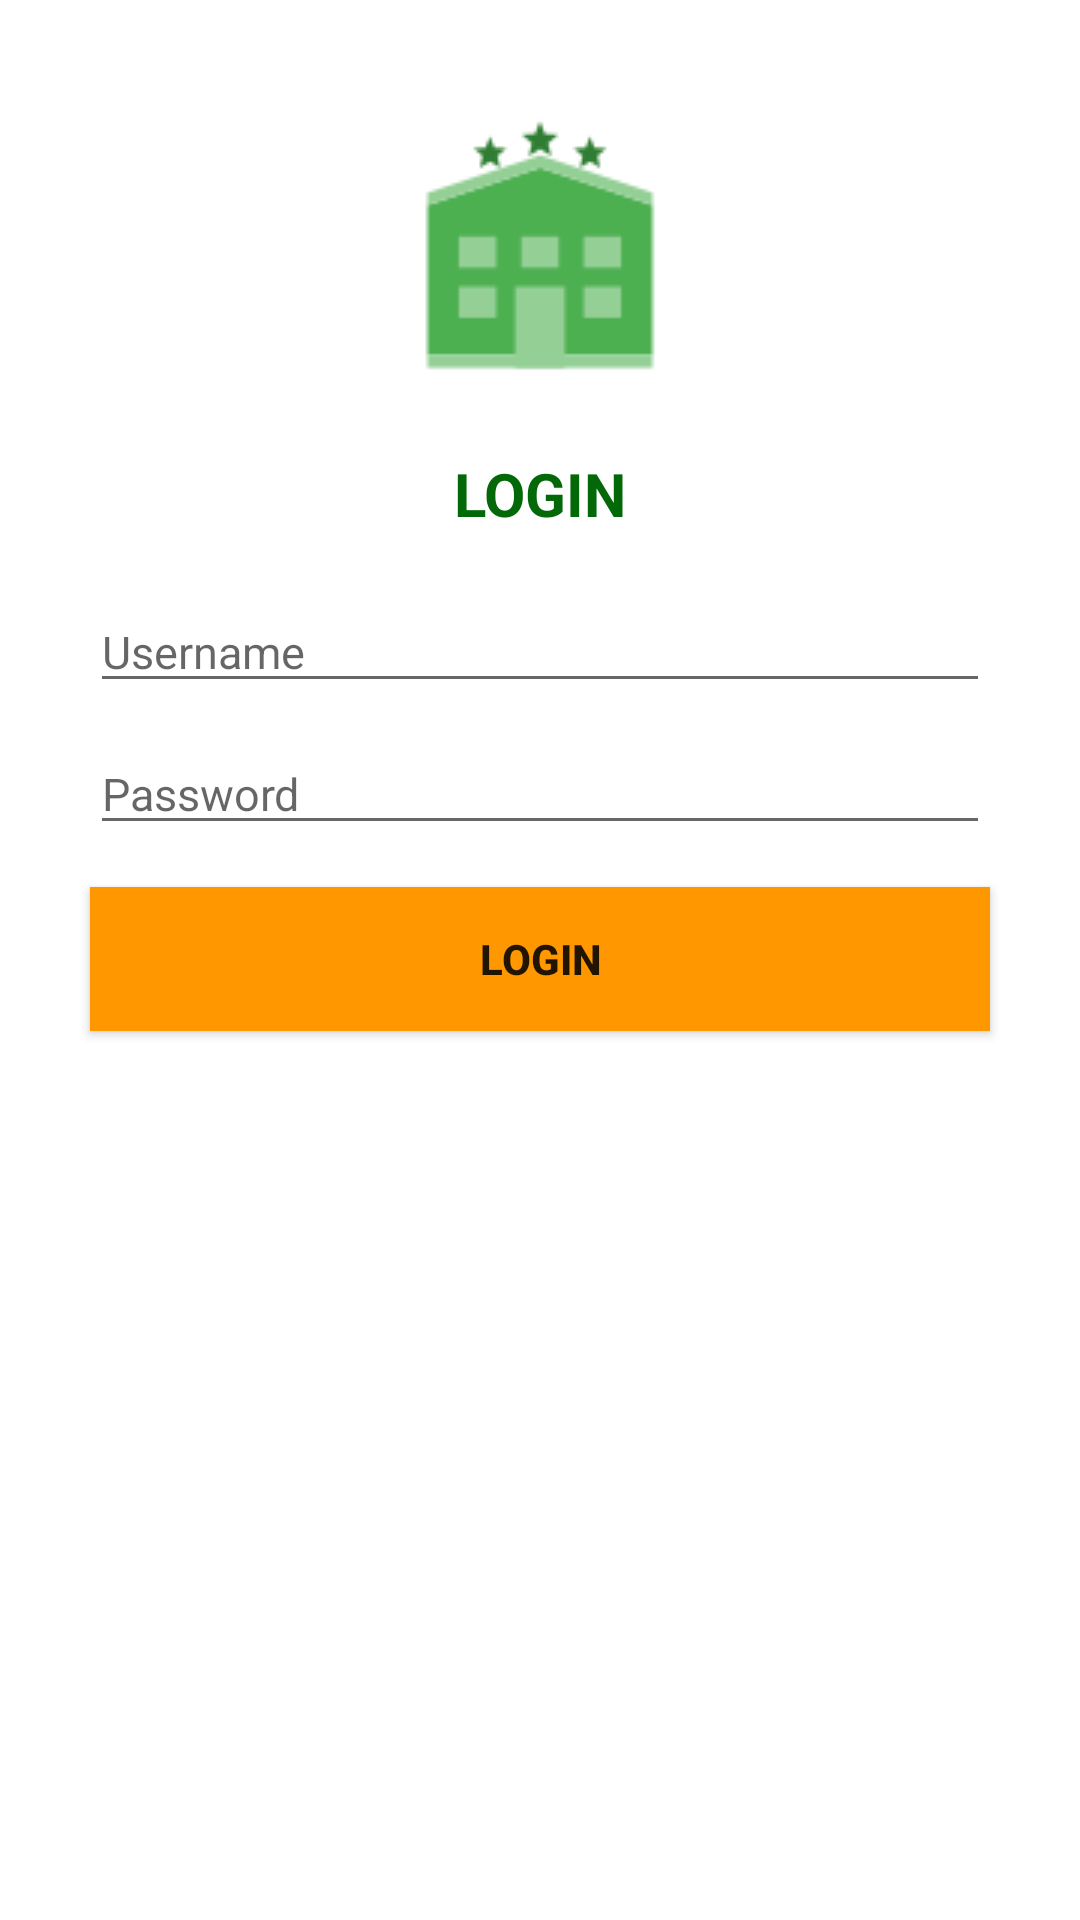

Where to tap for icons on this 1080 x 1920 app screen, as [x,y]:
hotell: [540,246]
